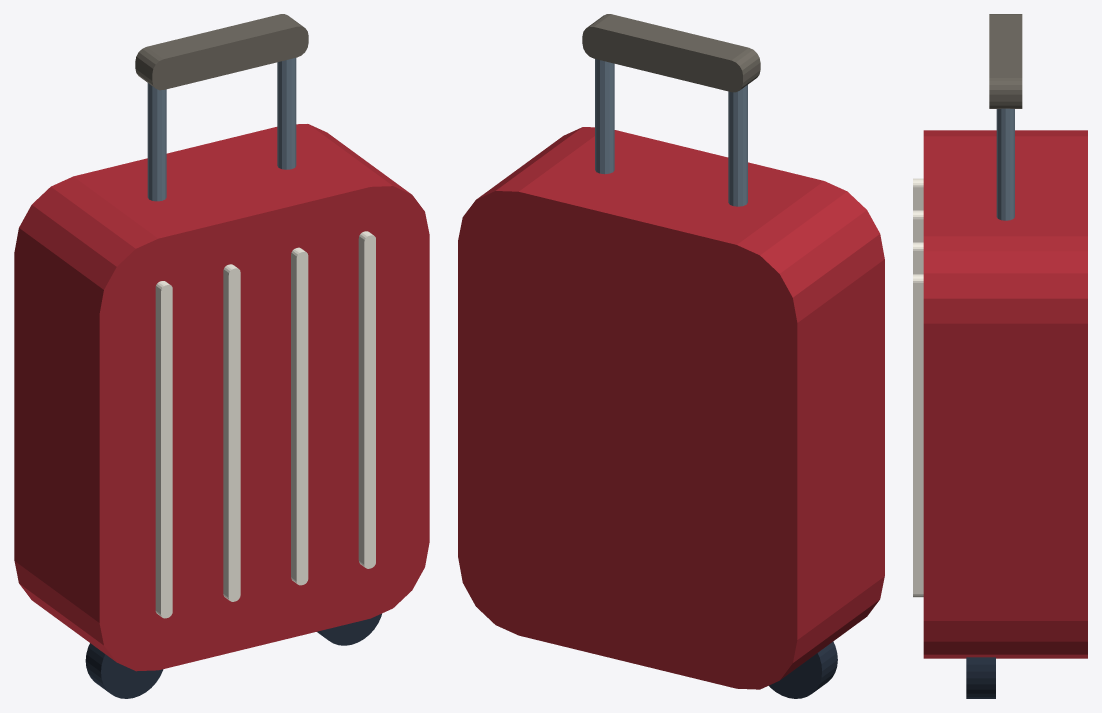
File: suitcase.glb
3 views of the same model, side by side, from view 1: azimuth 30°, elevation 25°; view 2: azimuth 150°, elevation 25°; view 3: azimuth 270°, elevation 25° (orthographic). The views are drawn at different scales.
Visible parts, largest first — view 1: hard shell, handle grip, rib 1, rib 0, rib 2, rib 3, telescopic -0.22, telescopic 0.22, caster -0.37, caster 0.37; view 2: hard shell, handle grip, telescopic -0.22, telescopic 0.22, caster -0.37; view 3: hard shell, rib 3, handle grip, telescopic 0.22, caster 0.37, rib 0, rib 1, rib 2.
Boxes of the visible parts, box(x1,y1,x2,y2) form: hard shell: box(14, 124, 429, 671); handle grip: box(135, 14, 308, 90); rib 1: box(223, 264, 240, 601); rib 0: box(155, 281, 172, 618); rib 2: box(291, 247, 308, 585); rib 3: box(358, 231, 375, 568); telescopic -0.22: box(147, 83, 166, 201); telescopic 0.22: box(277, 58, 296, 169); caster -0.37: box(85, 643, 163, 698); caster 0.37: box(317, 613, 381, 645); hard shell: box(458, 127, 884, 689); handle grip: box(582, 14, 760, 92); telescopic -0.22: box(728, 85, 747, 206); telescopic 0.22: box(595, 59, 614, 174); caster -0.37: box(769, 641, 837, 698); hard shell: box(923, 130, 1087, 658); rib 3: box(913, 274, 923, 597); handle grip: box(989, 14, 1022, 108); telescopic 0.22: box(996, 108, 1014, 220); caster 0.37: box(966, 657, 995, 698); rib 0: box(913, 178, 923, 210); rib 1: box(913, 210, 923, 242); rib 2: box(913, 242, 923, 274).
Size of the model in its own units: 1.12 by 2.01 by 0.5325.
